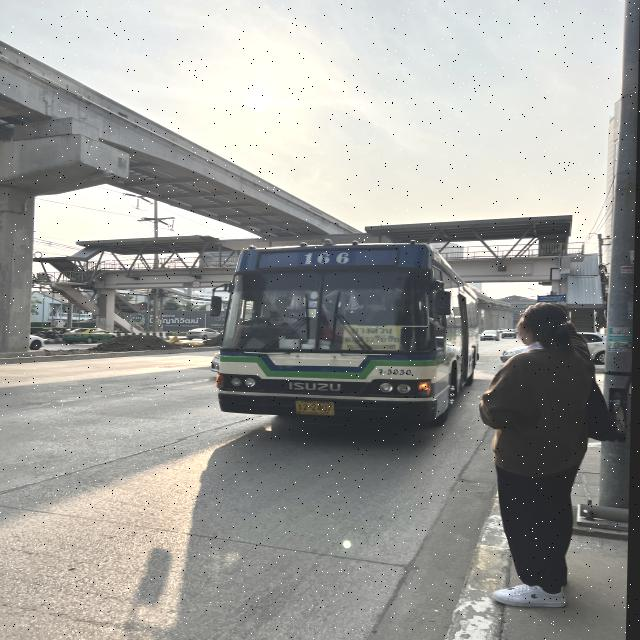BMTA-bus: (215, 244, 479, 425)
Bus-Line-Number: (302, 250, 356, 267)
Destination-Sign-Normal-Expressway: (344, 326, 402, 350)
